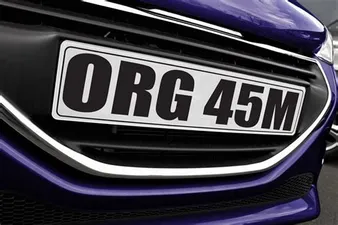number_plate: (51, 34, 313, 143)
